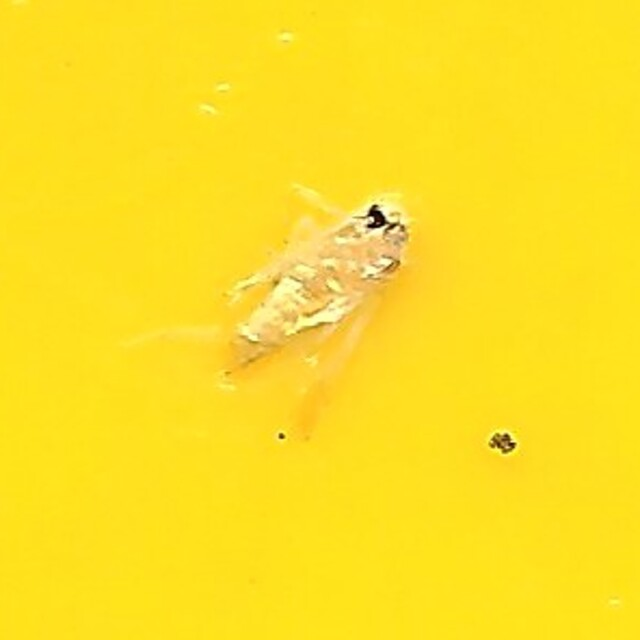Hemiptera: (216, 192, 424, 448)
